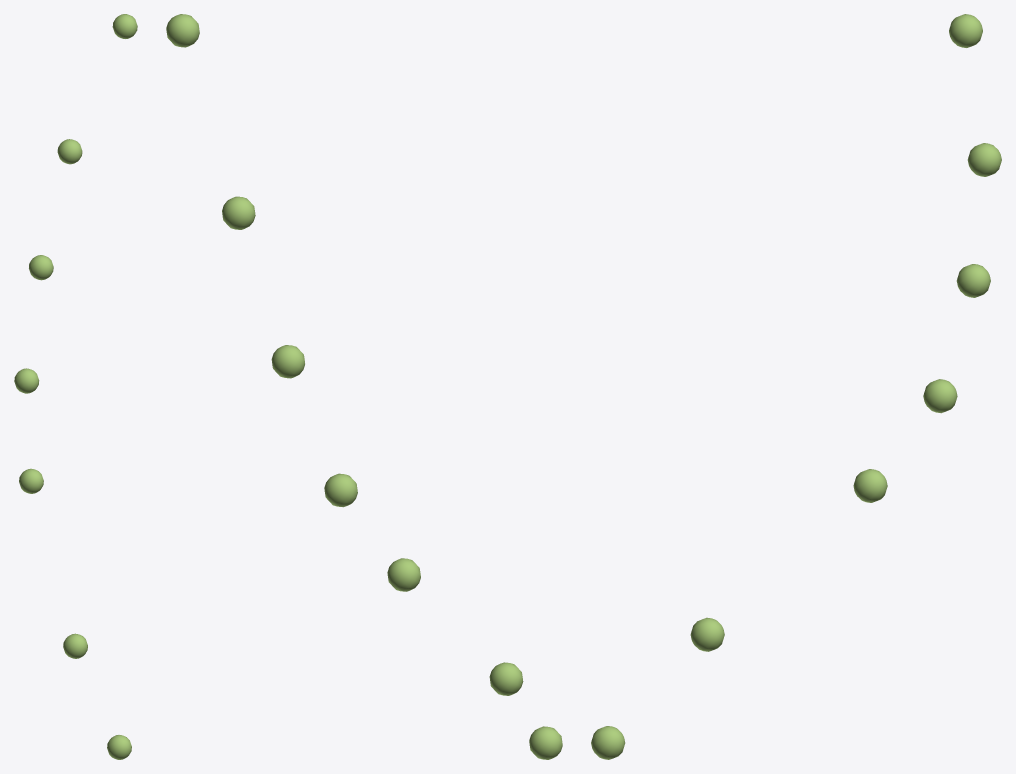
Rendered from intermediate-external-iliac-nodes-r.glb.
The picture shows the model from 3 angles, left to right: view 1: azimuth 30°, elevation 25°; view 2: azimuth 150°, elevation 25°; view 3: azimuth 270°, elevation 25°; orthographic projection. The views are drawn at different scales.
Visible parts, largest first — view 1: Intermediate external iliac nodes.r; view 2: Intermediate external iliac nodes.r; view 3: Intermediate external iliac nodes.r.
Boxes of the visible parts, left/top/right/bottom form: Intermediate external iliac nodes.r: left=14, top=14, right=137, bottom=759; Intermediate external iliac nodes.r: left=166, top=14, right=562, bottom=759; Intermediate external iliac nodes.r: left=591, top=14, right=1001, bottom=759.
Size of the model in its own units: 0.0197 by 0.0697 by 0.0311.
